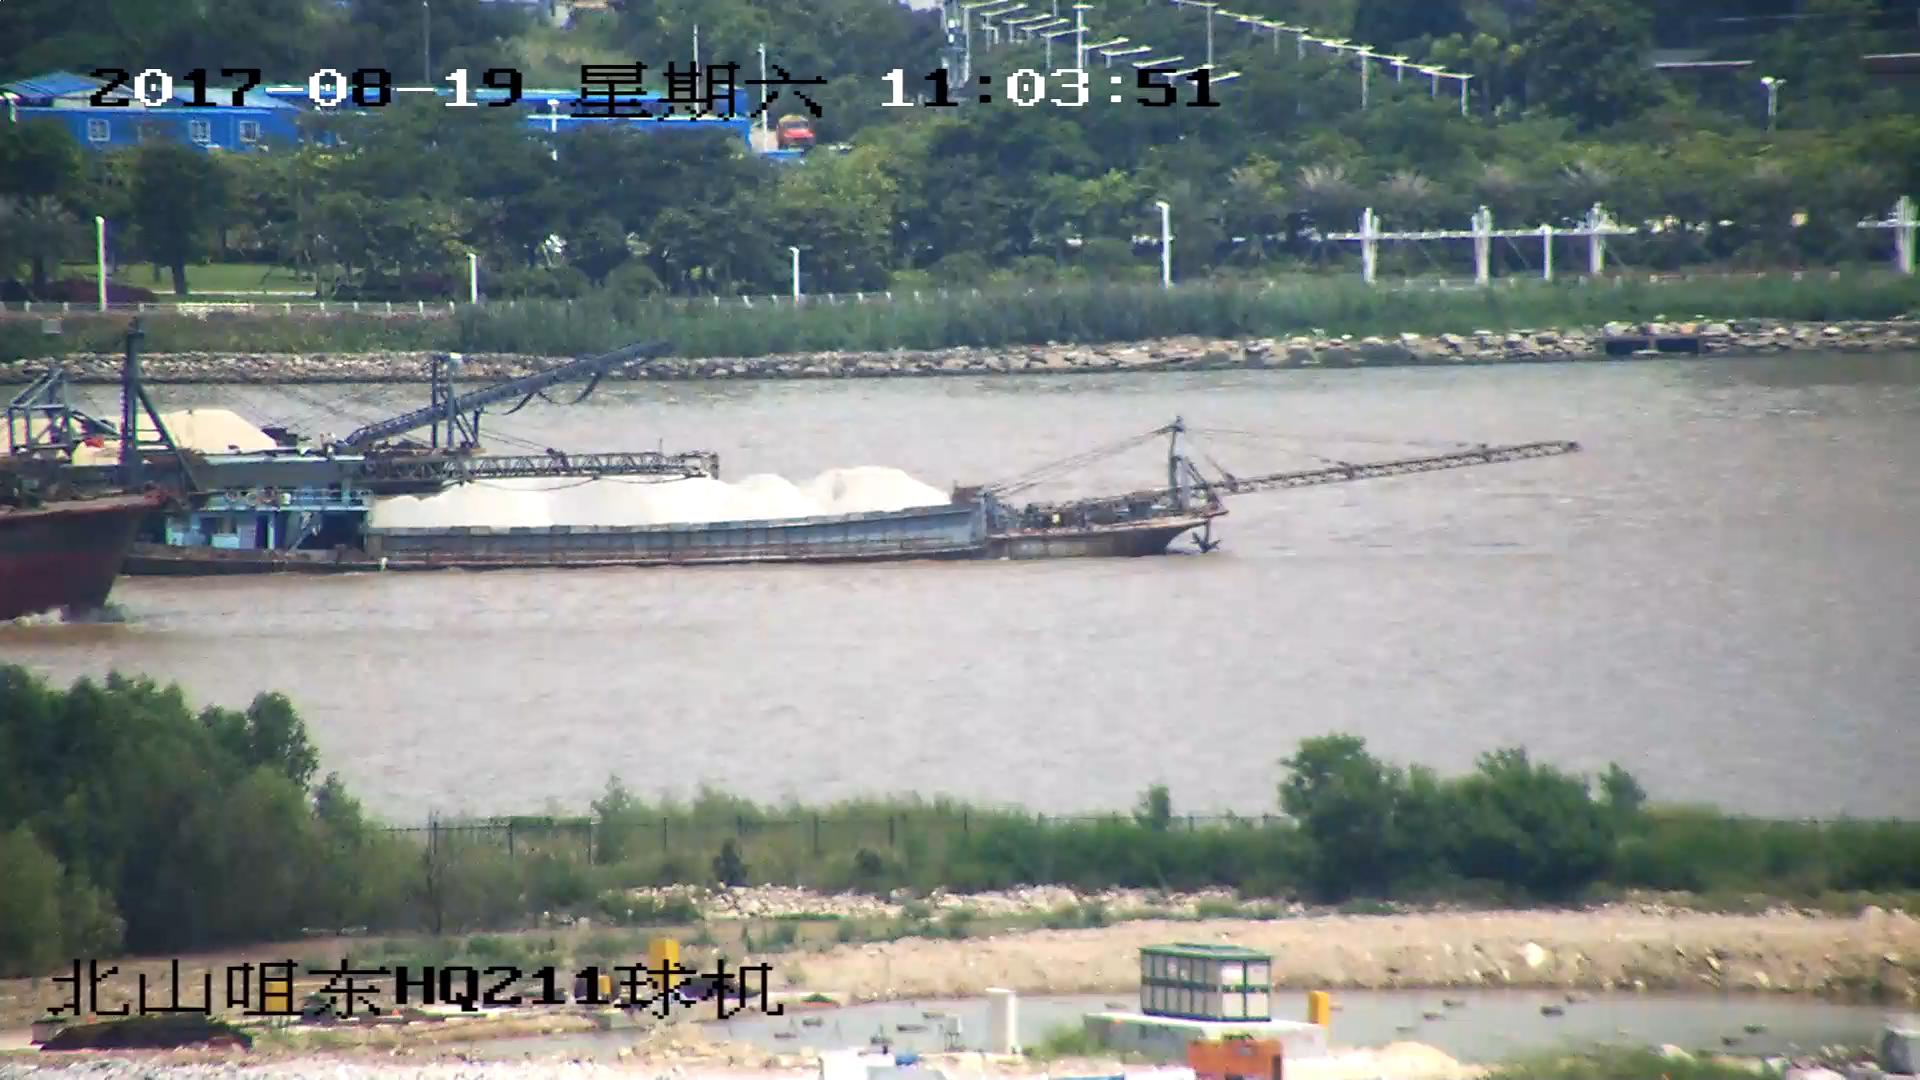ore carrier: (125, 431, 1571, 579), (1, 340, 661, 487)
